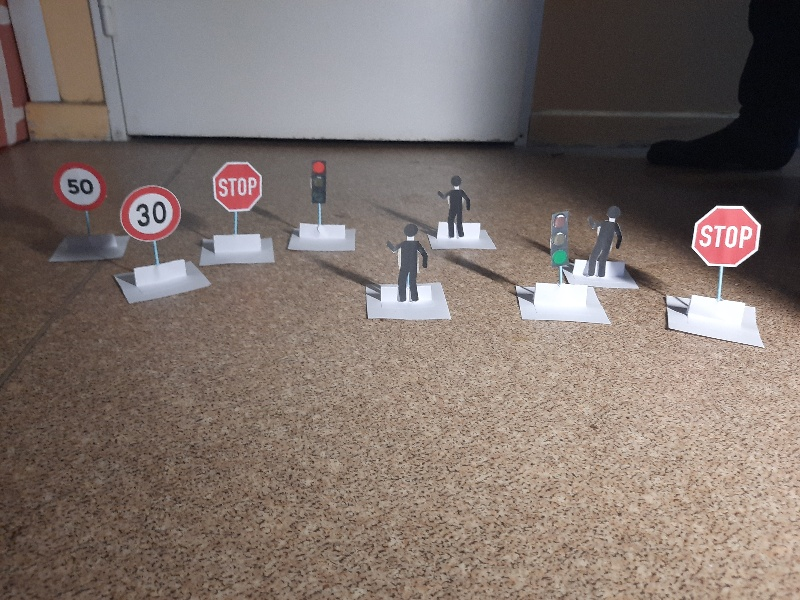Green: (549, 209, 569, 269)
Limit 30: (118, 184, 179, 238)
Limit 50: (210, 162, 262, 211), (53, 163, 102, 208)
Person: (387, 225, 427, 298), (587, 208, 625, 276), (437, 177, 472, 237)
Red: (308, 160, 330, 203)
Stop: (693, 203, 760, 272)
